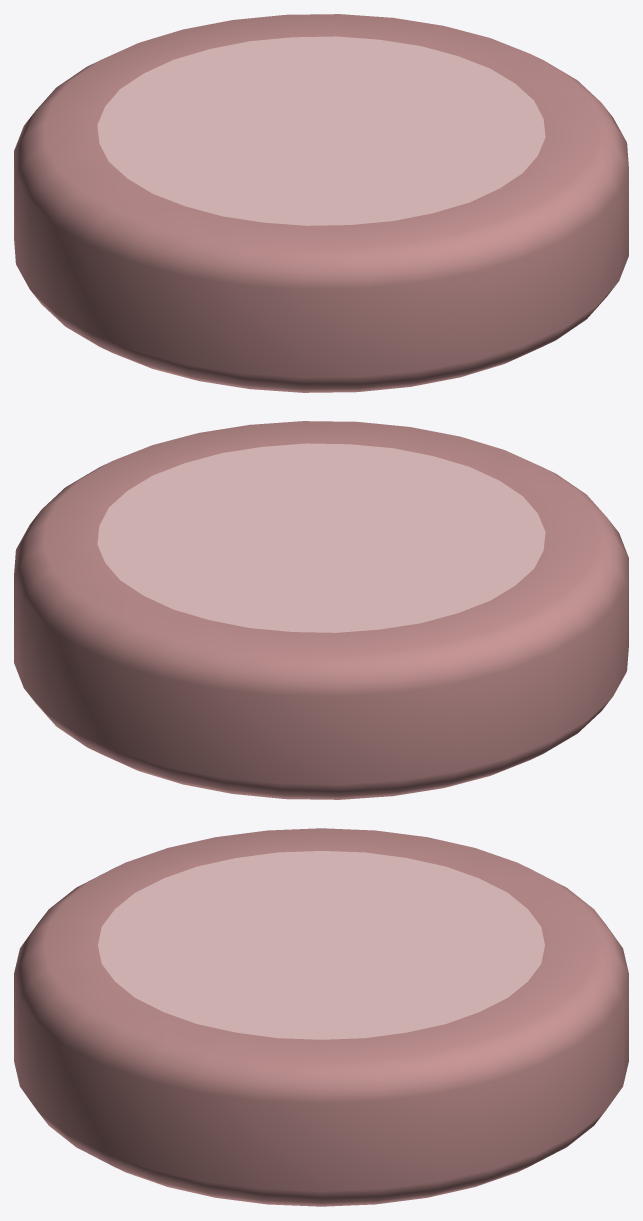
Rendered from Mdl Disk.fbx.
The picture shows the model from 3 angles, top to bottom: view 1: azimuth 30°, elevation 25°; view 2: azimuth 150°, elevation 25°; view 3: azimuth 270°, elevation 25°; orthographic projection.
Visible parts, largest first — view 1: Disk_Rig; view 2: Disk_Rig; view 3: Disk_Rig.
Part boxes in pixels (box(x1,y1,x2,y2)): Disk_Rig: box(14, 14, 628, 392); Disk_Rig: box(14, 421, 628, 799); Disk_Rig: box(14, 828, 628, 1206).
Bounding box in the file's own units: 0.9382 × 0.2429 × 0.9382.
